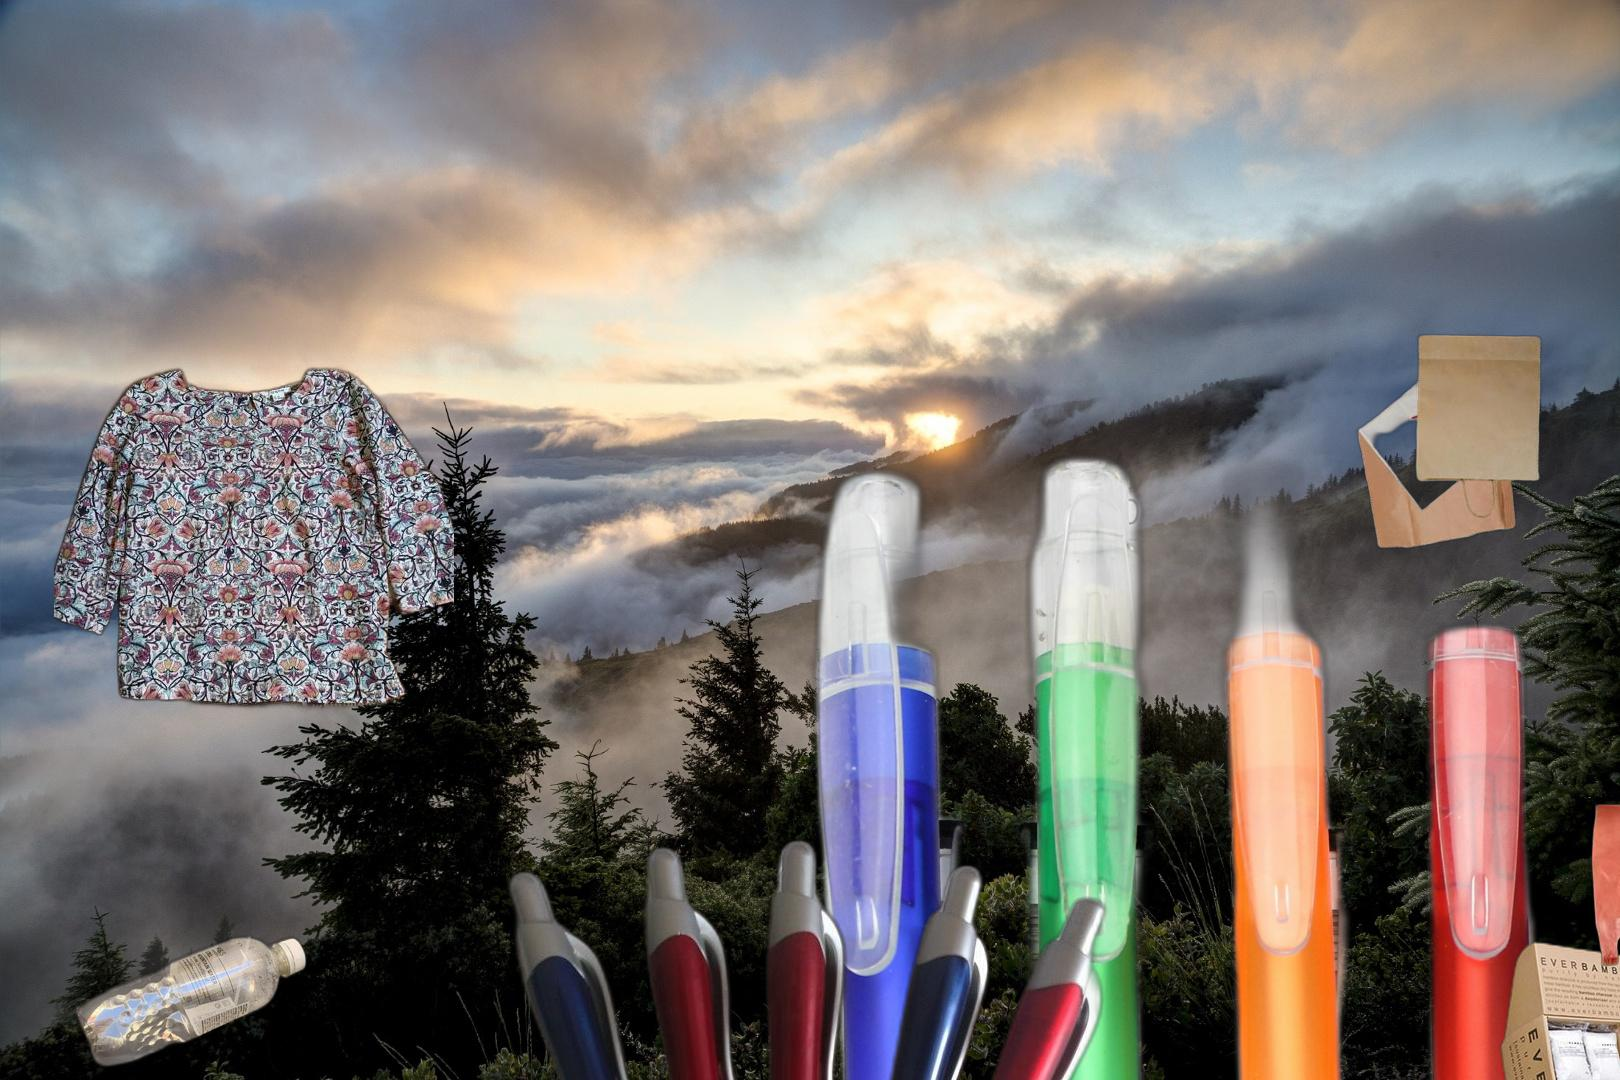clothes: (54, 362, 454, 756)
paper-bag: (1354, 333, 1543, 552)
penholder: (785, 362, 1620, 1080), (499, 835, 1114, 1080)
plastic-bag: (1587, 799, 1620, 994)
plastic-bottles: (72, 665, 311, 1080)
trashbox-cardboard: (1497, 937, 1620, 1080)
